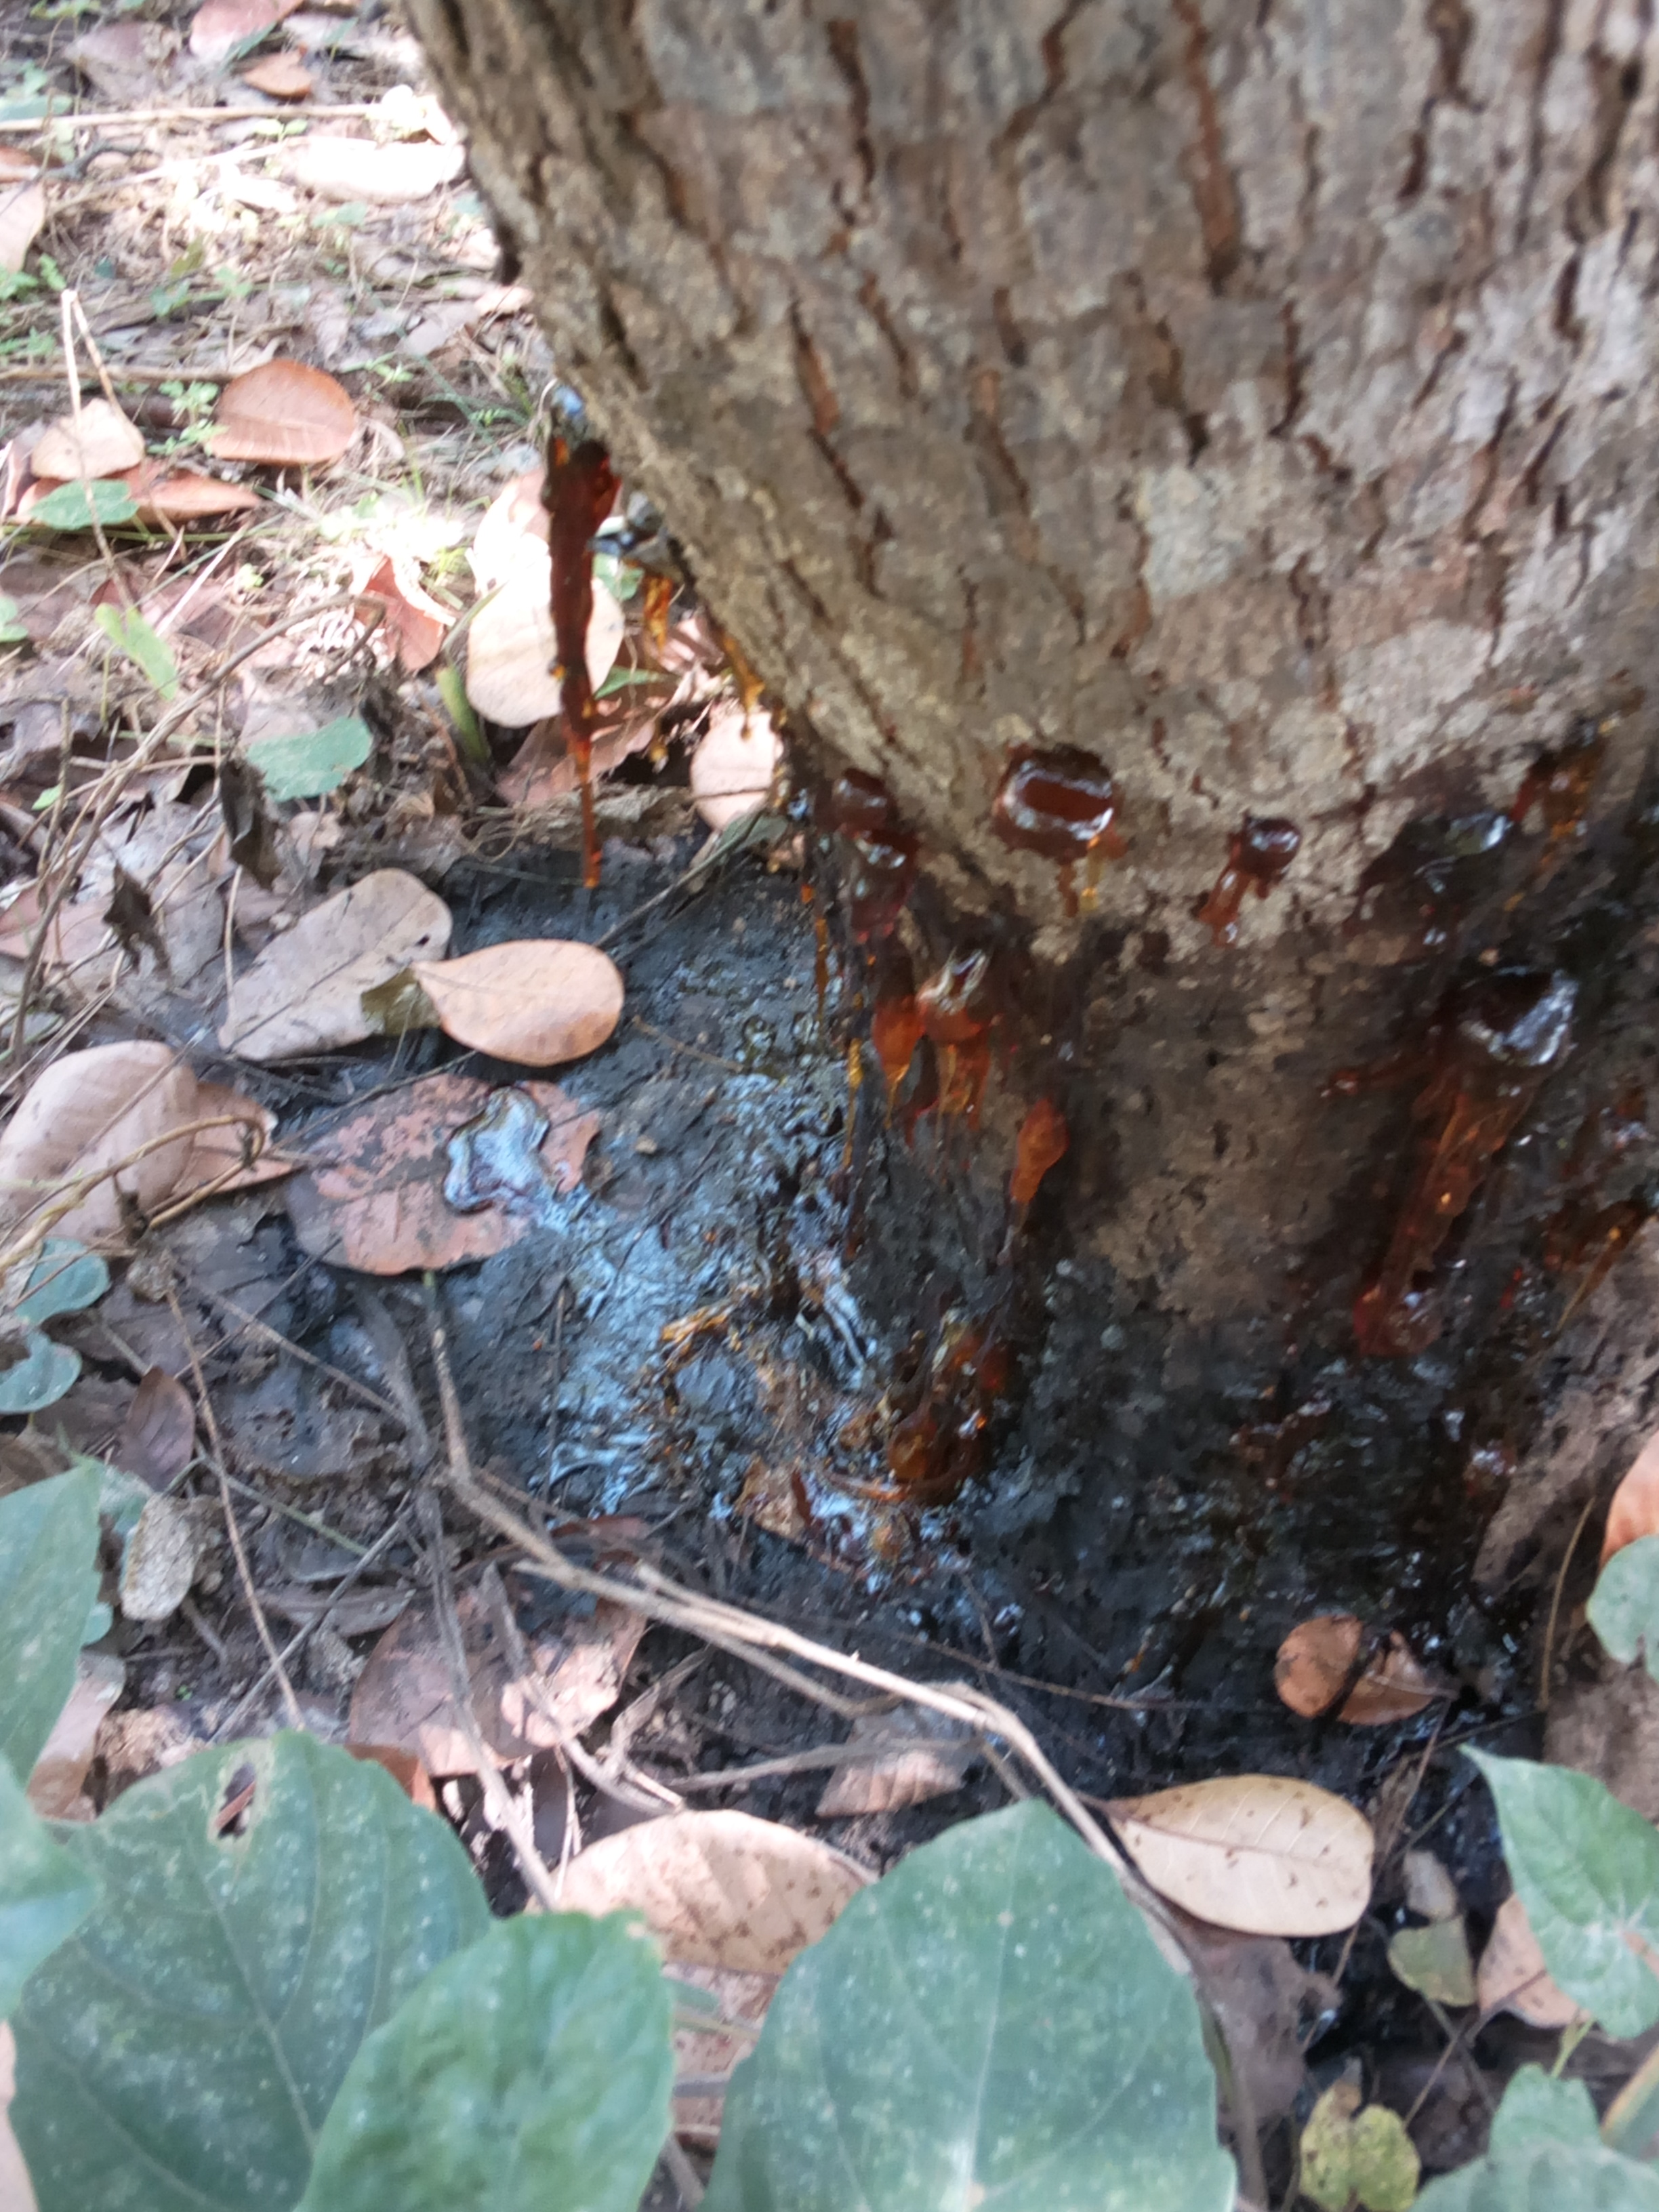Gommose: (840, 751, 1652, 1472)
